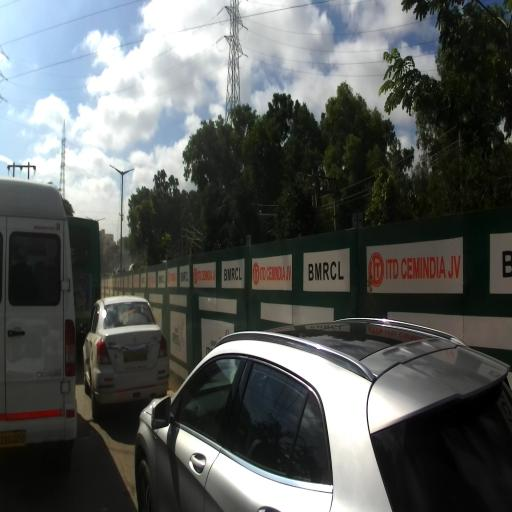street_light_0: (110, 164, 124, 178), (122, 168, 134, 178), (85, 216, 94, 221), (96, 218, 106, 222)
